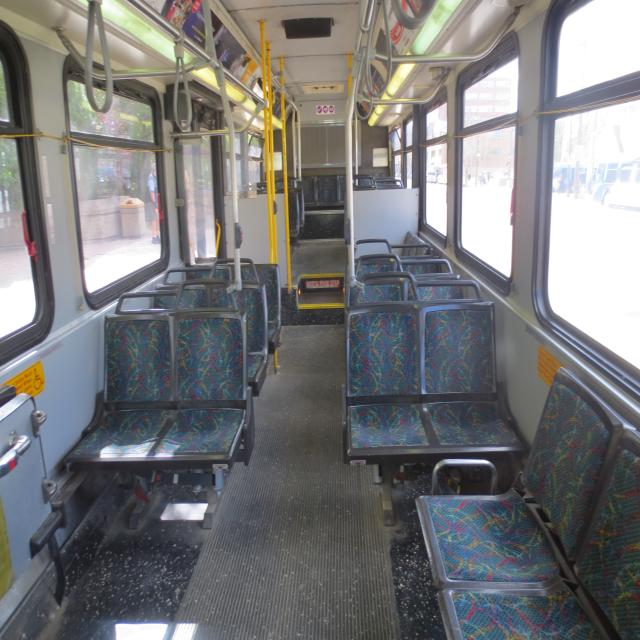empty-seat-frontal: (58, 285, 177, 464), (415, 277, 530, 459), (142, 282, 251, 469), (341, 272, 445, 462)
